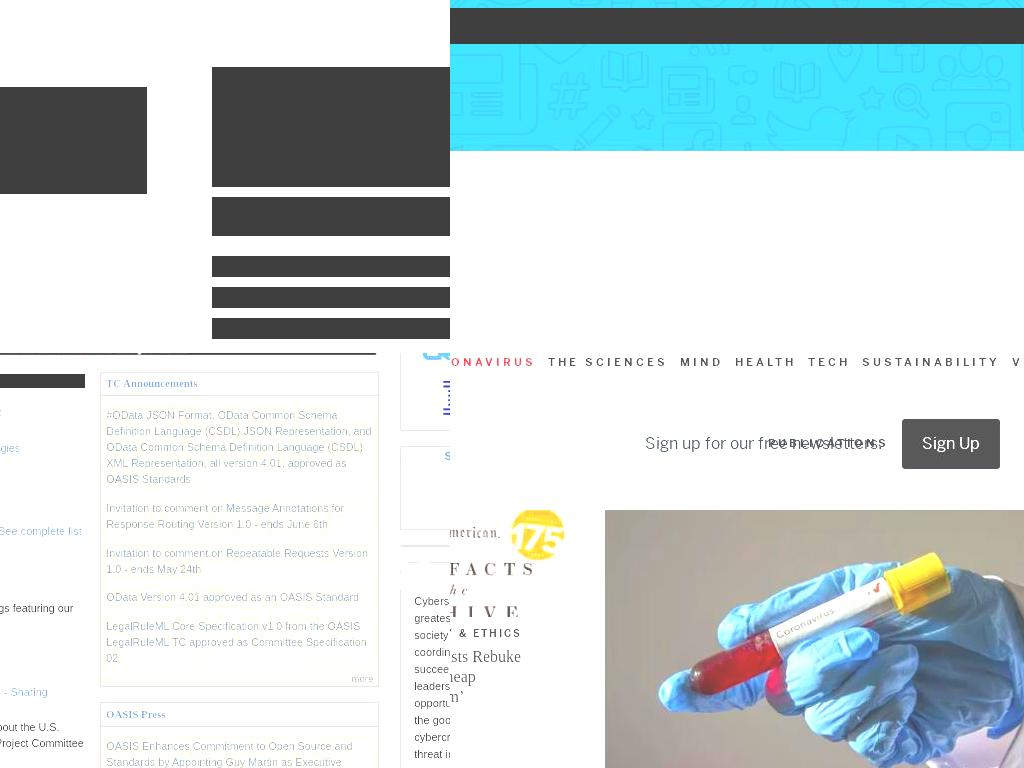button: (901, 419, 1000, 469), (901, 433, 1000, 454)
heading: (212, 67, 450, 187), (212, 197, 450, 236), (450, 646, 565, 707), (0, 374, 85, 388), (0, 557, 85, 571)
image: (604, 510, 1024, 768), (0, 87, 147, 194), (450, 510, 565, 638), (401, 563, 450, 768)
link: (106, 409, 373, 486), (106, 619, 368, 664), (106, 546, 369, 575), (106, 739, 353, 768), (106, 501, 345, 530), (106, 591, 360, 604), (861, 355, 1000, 369), (767, 436, 889, 450), (547, 355, 668, 369), (450, 355, 536, 369), (106, 376, 198, 389), (0, 525, 83, 538), (734, 355, 796, 369), (106, 707, 166, 720), (679, 355, 723, 369), (807, 355, 850, 369), (758, 26, 789, 44), (351, 673, 375, 685), (1011, 355, 1024, 369)
text: (450, 8, 1024, 44), (644, 433, 882, 455), (212, 256, 450, 277), (212, 287, 450, 308), (212, 318, 450, 339), (0, 718, 85, 767), (789, 26, 958, 44), (0, 600, 85, 633), (450, 707, 565, 729), (450, 617, 539, 638), (0, 658, 85, 675)
